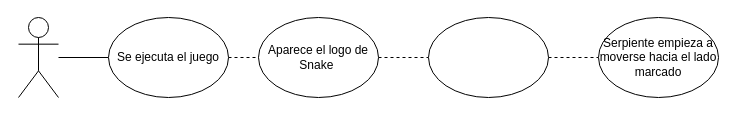
Image size: 736x136. Some labels were removed from this diagram. The centre of each missing label's shape, as x and y in pixels:
Jugador: [38,57]
Pulsa cualquier lado de la pantalla: [488,57]
